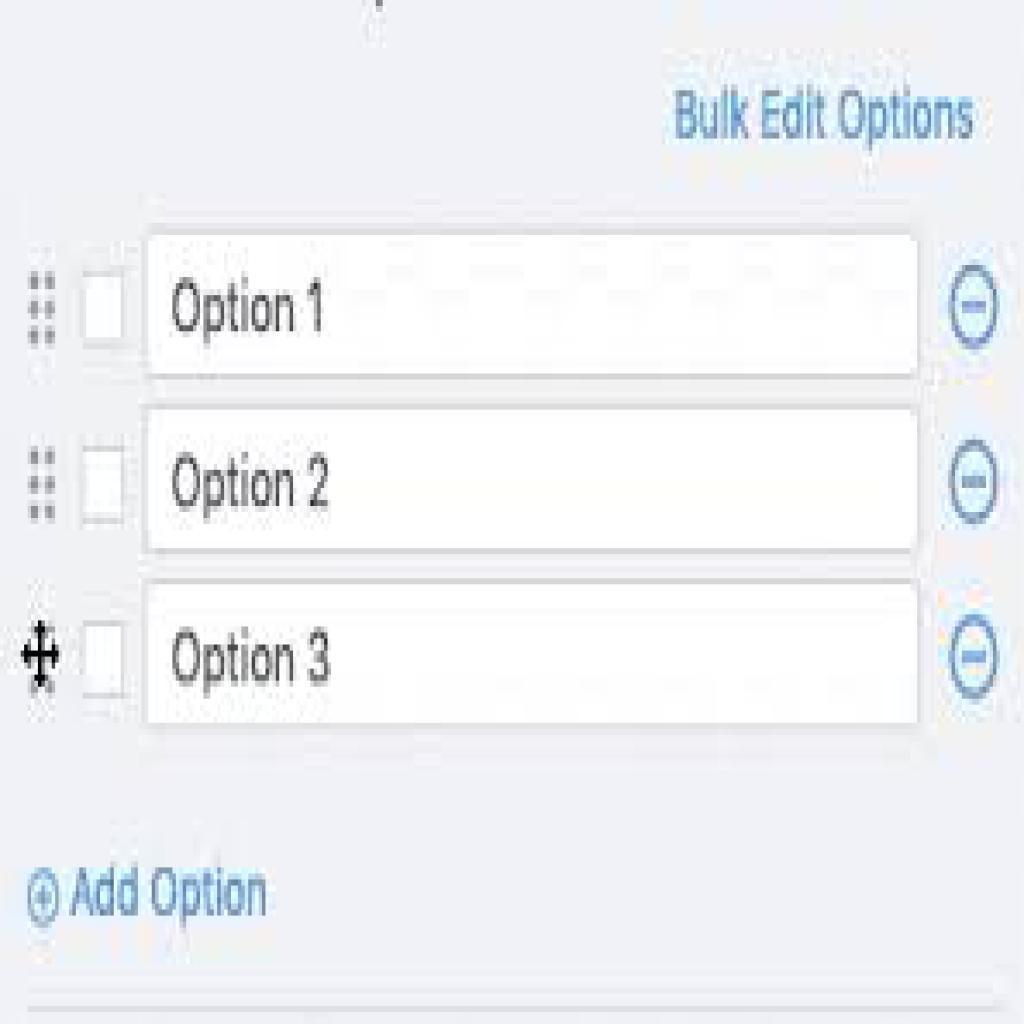checkbox: (82, 622, 130, 701), (79, 445, 127, 523), (82, 272, 129, 344)
input: (142, 233, 922, 378), (149, 404, 926, 549), (146, 583, 920, 725)
